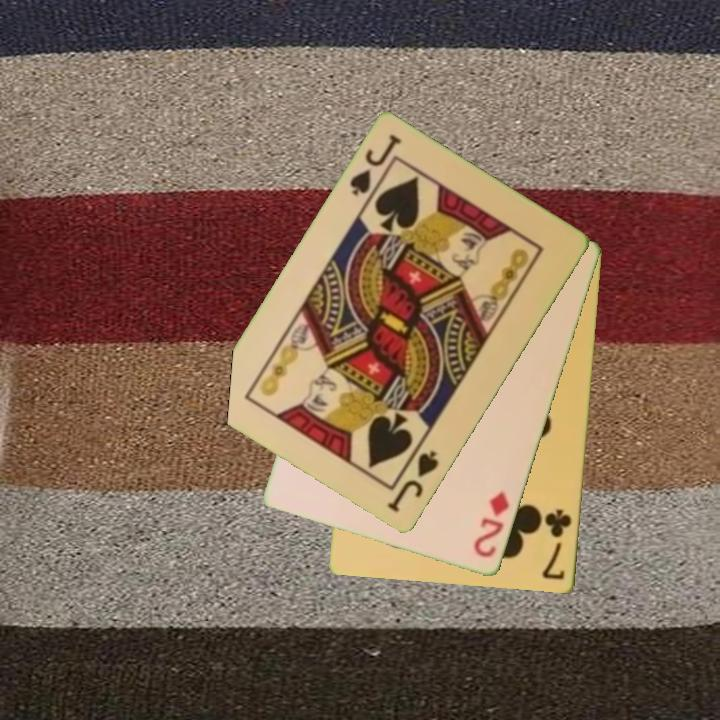2d: (470, 488, 513, 561)
7c: (538, 506, 575, 583)
Js: (346, 131, 405, 200), (384, 447, 442, 516)
